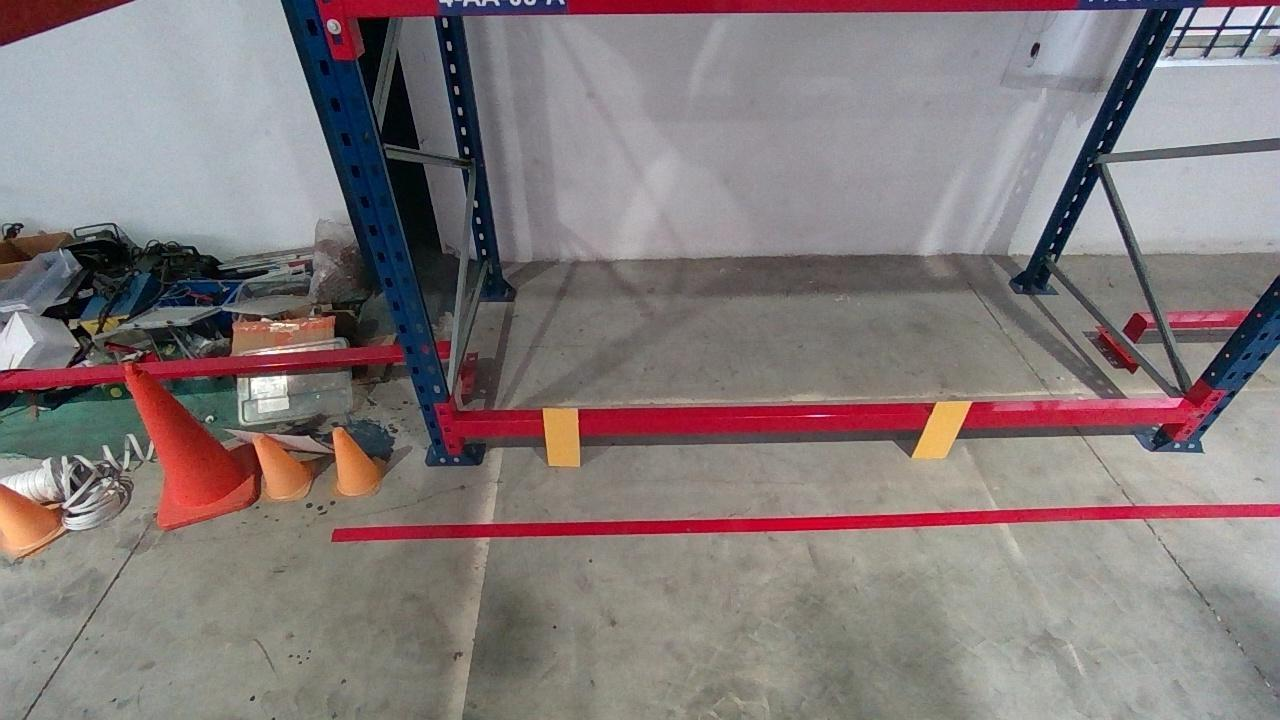h_rack: (462, 406, 1189, 437), (337, 0, 1279, 15)
orange_strip: (910, 400, 975, 458), (541, 407, 580, 465)
red_line: (328, 501, 1277, 540)
